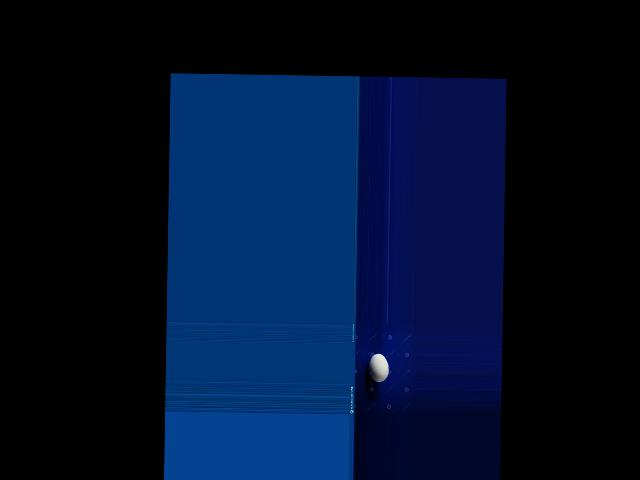egg: (367, 353, 388, 382)
